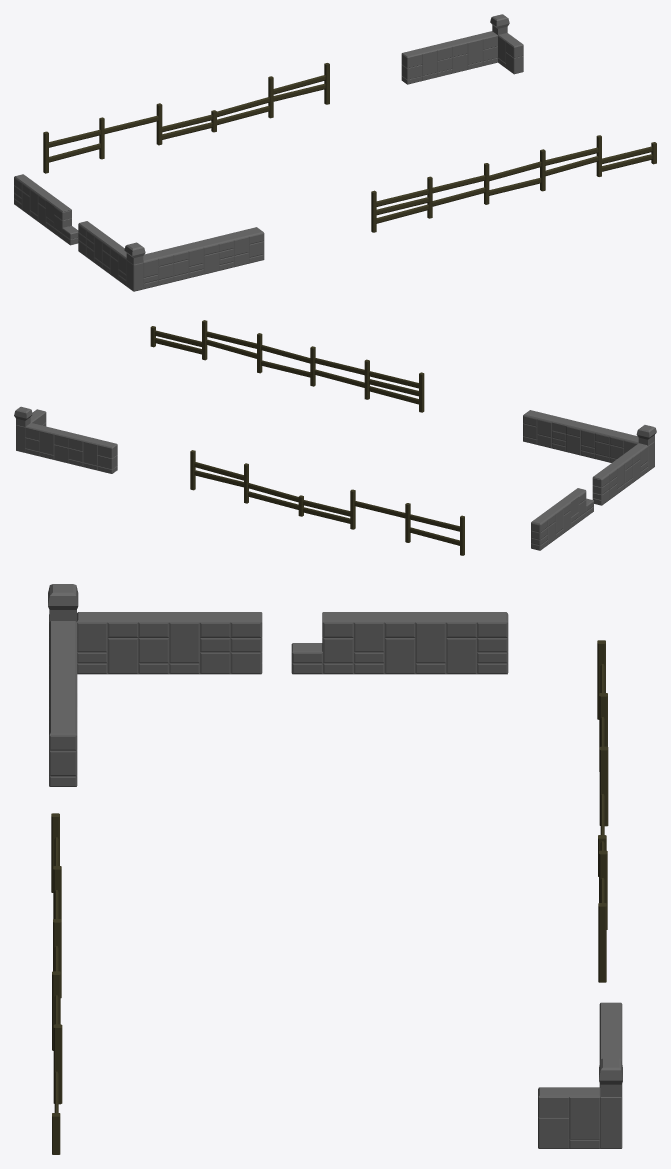
File: Field.fbx
3 views of the same model, one above another, from view 1: azimuth 30°, elevation 25°; view 2: azimuth 150°, elevation 25°; view 3: azimuth 270°, elevation 25° (orthographic). The views are drawn at different scales.
Visible parts, largest first — view 1: Field; view 2: Field; view 3: Field.
Boxes of the visible parts, x1,y1,x2,y2 form: Field: [14, 14, 656, 291]; Field: [14, 320, 656, 555]; Field: [48, 584, 622, 1154].
Size of the model in its own units: 20.32 by 1.57 by 10.05.
